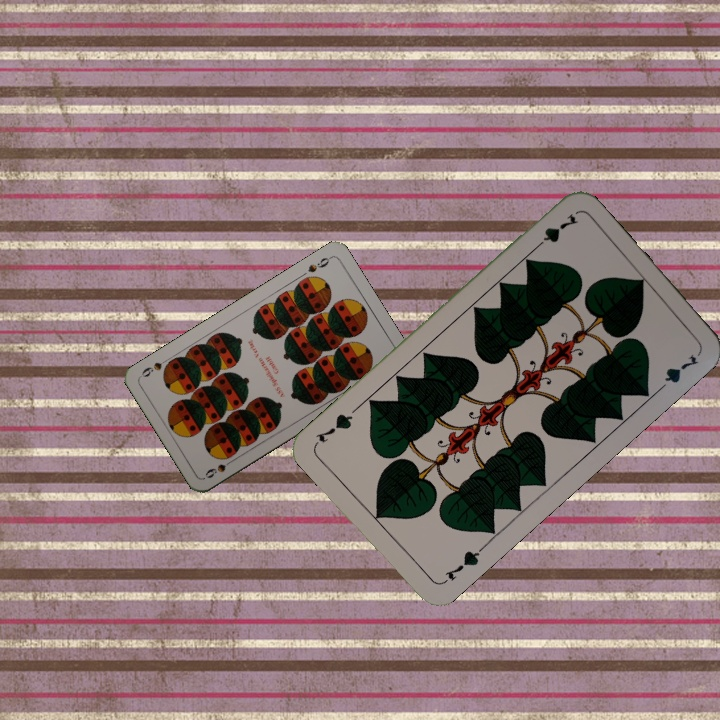G7: (529, 209, 581, 254), (437, 543, 486, 587)
S9: (201, 454, 238, 481), (304, 252, 334, 275)
